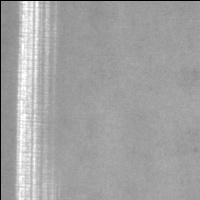scratches: (16, 2, 57, 200)
